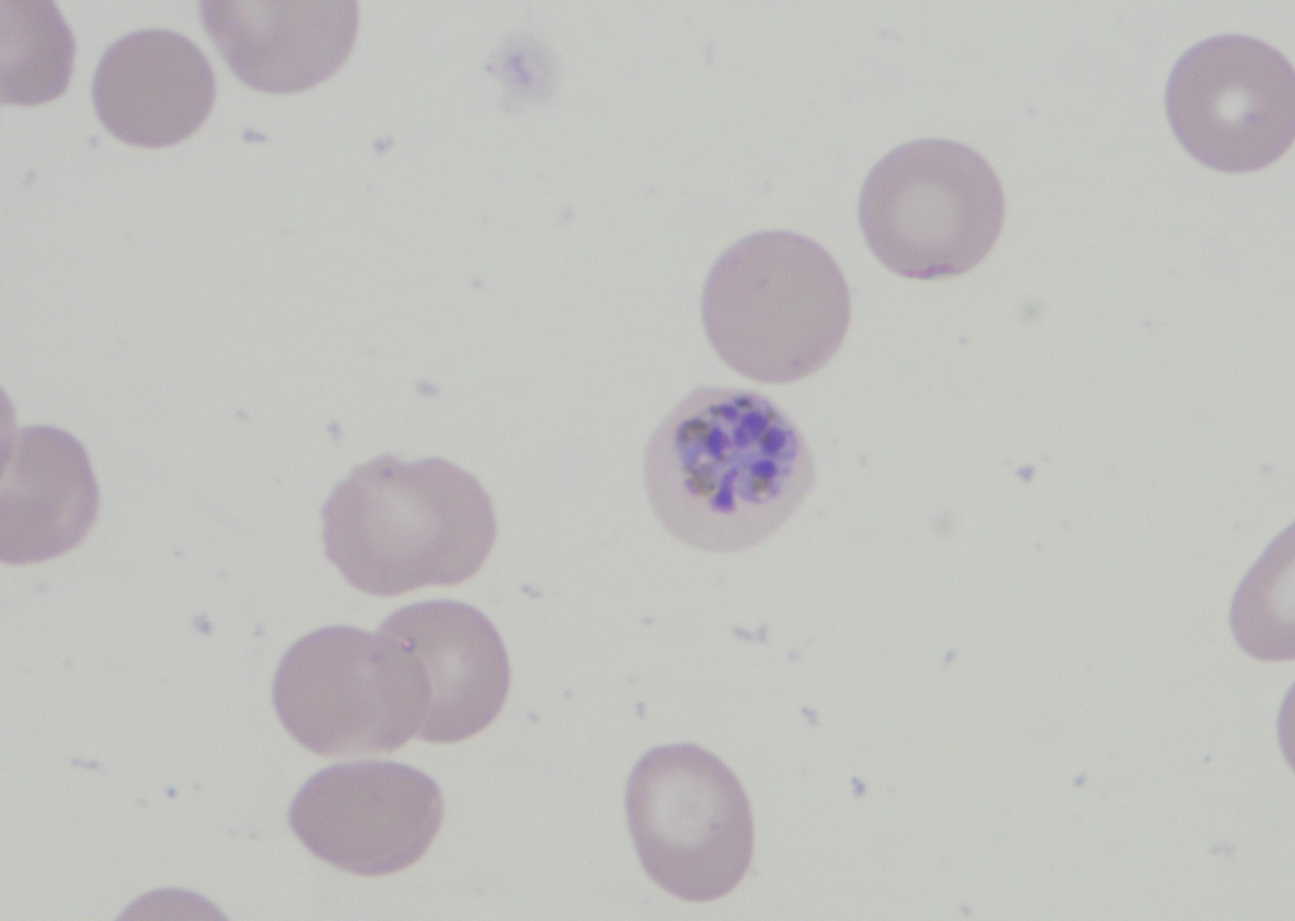Infected: (642, 387, 814, 551)
Uninfected: (325, 450, 495, 600), (701, 230, 850, 384), (622, 741, 754, 899), (859, 135, 1001, 280), (274, 625, 427, 757), (378, 606, 512, 745), (1165, 32, 1295, 173), (291, 768, 442, 875), (198, 0, 353, 100), (90, 26, 210, 148), (0, 426, 101, 562)
